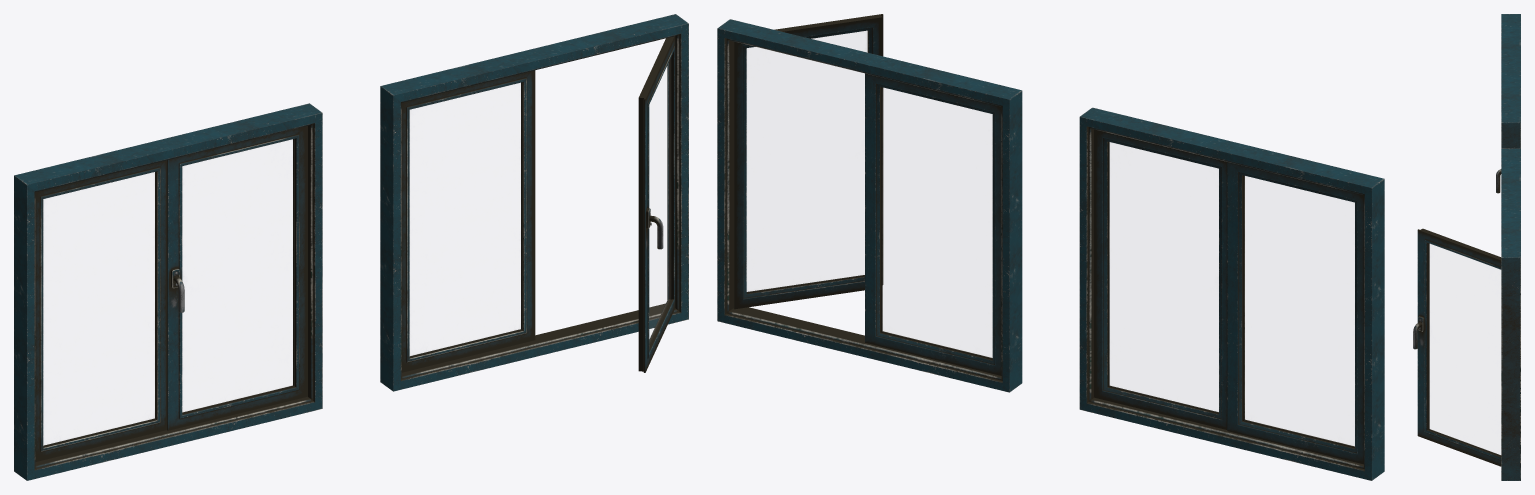
File: window.obj
3 views of the same model, side by side, from view 1: azimuth 30°, elevation 25°; view 2: azimuth 150°, elevation 25°; view 3: azimuth 270°, elevation 25° (orthographic). The views are drawn at different scales.
Parts seen in each view (by area): view 1: obj1, obj6, obj9, obj2, obj7, obj4; view 2: obj1, obj6, obj2, obj7, obj9, obj4; view 3: obj1, obj4, obj6.
Part boxes in pixels (x1,y1,x2,y2): obj1: (380,14,688,391); obj6: (14,103,322,480); obj9: (167,126,307,430); obj2: (401,70,535,372); obj7: (35,160,167,461); obj4: (638,36,675,372); obj1: (717,19,1022,392); obj6: (1079,107,1384,480); obj2: (865,73,1001,375); obj7: (1227,162,1363,464); obj9: (1094,129,1227,429); obj4: (733,14,883,309); obj1: (1501,148,1520,480); obj4: (1413,228,1501,466); obj6: (1501,14,1520,148).
Bounding box in the file's own units: 5.31 × 2.27 × 0.9936.
